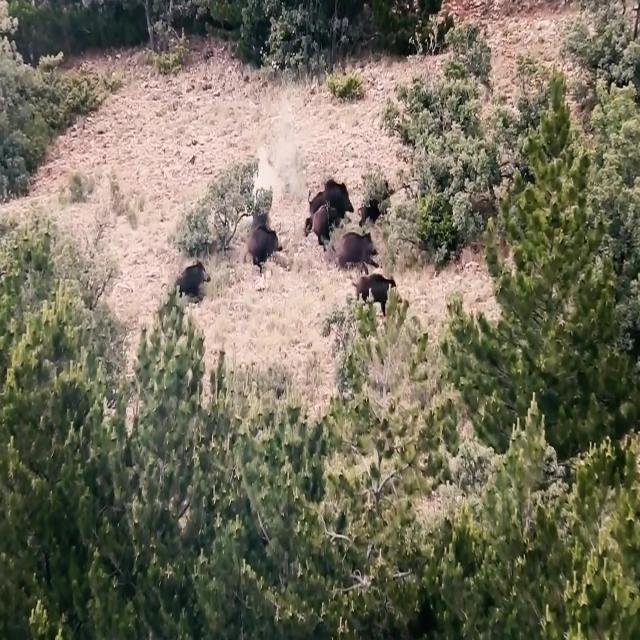pig: (165, 233, 222, 320), (224, 215, 292, 279), (346, 262, 401, 316), (333, 217, 382, 269), (298, 180, 356, 217)
